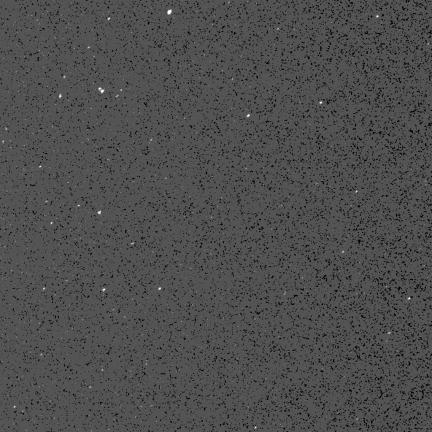blob: (167, 10, 172, 14)
